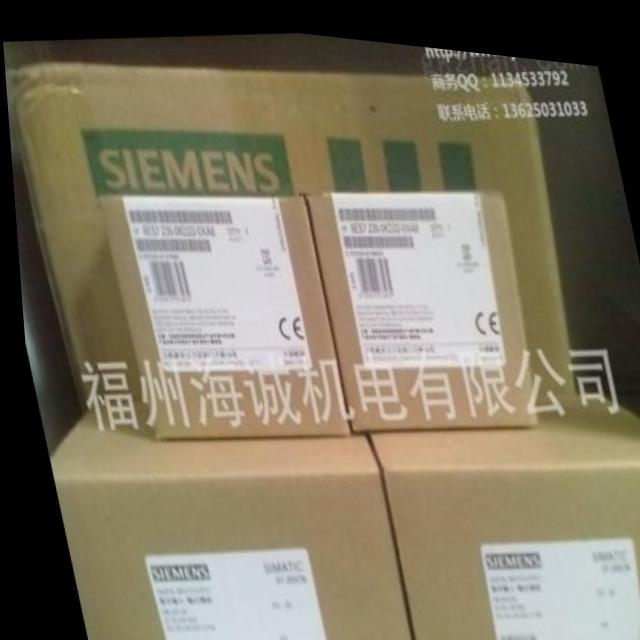box: (4, 60, 572, 412), (43, 394, 406, 640), (364, 379, 640, 640), (96, 188, 345, 438), (300, 178, 534, 423)
